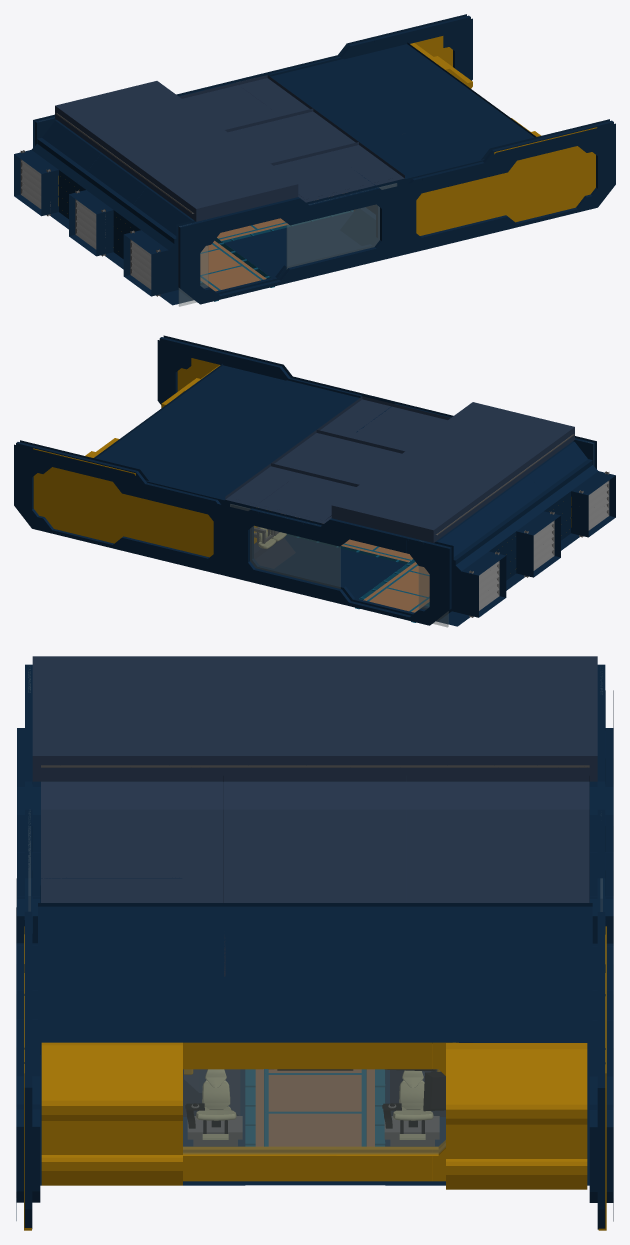
File: Ship.fbx
The picture shows the model from 3 angles, top to bottom: view 1: azimuth 30°, elevation 25°; view 2: azimuth 150°, elevation 25°; view 3: azimuth 270°, elevation 25°; orthographic projection. The views are drawn at different scales.
Parts seen in each view (by area): view 1: ship3:_End:polySurface6, ship3:_End:BSP_Ceiling01, ship3:_End:BB_Ceiling02, ship3:_End:BB_wall03, ship3:pCube22, ship3:BB_Doorglass_copy, ship3:_End:BB_Ceiling03, ship3:BSP_Floor01, ship3:polySurface6, ship3:_End:BB_Ceiling03_copy, ship3:_End:BB_Ceiling03_copy2, ship3:pCube23 (+8 smaller); view 2: ship3:polySurface6, ship3:_End:BSP_Ceiling01, ship3:_End:BB_Ceiling02, ship3:_End:BB_wall03, ship3:pCube24, ship3:_End:BB_Doorglass_copy, ship3:_End:BB_Ceiling03_copy2, ship3:_End:polySurface6, ship3:_End:BB_Ceiling03, ship3:_End:BB_Ceiling03_copy, ship3:_End:BSP_Floor01, ship3:pCube25 (+8 smaller); view 3: ship3:_End:BSP_Ceiling01, ship3:_End:BB_Ceiling02, ship3:_End:BB_Ceiling03, ship3:polySurface9, ship3:_End:BB_Ceiling03_copy2, ship3:_End:BB_Ceiling03_copy, ship3:_End:BB_Wall02_copy, ship3:_End:BB_Wall03_copy4, ship3:polySurface6, ship3:_End:polySurface6, ship3:BB_Floor01, ship3:polySurface12 (+9 smaller).
Part boxes in pixels (<box>): ship3:_End:polySurface6: <box>176,119,615,304</box>; ship3:_End:BSP_Ceiling01: <box>268,42,536,178</box>; ship3:_End:BB_Ceiling02: <box>55,81,298,221</box>; ship3:_End:BB_wall03: <box>14,120,193,300</box>; ship3:pCube22: <box>494,127,597,222</box>; ship3:BB_Doorglass_copy: <box>178,183,397,306</box>; ship3:_End:BB_Ceiling03: <box>270,142,404,202</box>; ship3:BSP_Floor01: <box>224,211,360,277</box>; ship3:polySurface6: <box>33,14,472,147</box>; ship3:_End:BB_Ceiling03_copy: <box>225,108,358,163</box>; ship3:_End:BB_Ceiling03_copy2: <box>179,75,312,129</box>; ship3:pCube23: <box>416,176,494,235</box>; ship3:polySurface6: <box>14,440,453,625</box>; ship3:_End:BSP_Ceiling01: <box>94,363,361,500</box>; ship3:_End:BB_Ceiling02: <box>331,402,574,542</box>; ship3:_End:BB_wall03: <box>436,441,615,621</box>; ship3:pCube24: <box>33,448,135,543</box>; ship3:_End:BB_Doorglass_copy: <box>230,504,448,627</box>; ship3:_End:BB_Ceiling03_copy2: <box>225,463,359,523</box>; ship3:_End:polySurface6: <box>157,335,596,468</box>; ship3:_End:BB_Ceiling03: <box>317,396,450,451</box>; ship3:_End:BB_Ceiling03_copy: <box>271,430,404,484</box>; ship3:_End:BSP_Floor01: <box>274,535,405,598</box>; ship3:pCube25: <box>132,496,213,557</box>; ship3:_End:BSP_Ceiling01: <box>38,903,592,1042</box>; ship3:_End:BB_Ceiling02: <box>32,656,597,781</box>; ship3:_End:BB_Ceiling03: <box>41,775,223,902</box>; ship3:polySurface9: <box>183,1069,445,1154</box>; ship3:_End:BB_Ceiling03_copy2: <box>406,776,589,902</box>; ship3:_End:BB_Ceiling03_copy: <box>224,777,406,902</box>; ship3:_End:BB_Wall02_copy: <box>446,1043,587,1189</box>; ship3:_End:BB_Wall03_copy4: <box>41,1042,182,1185</box>; ship3:polySurface6: <box>589,664,613,1229</box>; ship3:_End:polySurface6: <box>16,664,40,1228</box>; ship3:BB_Floor01: <box>245,1075,385,1146</box>; ship3:polySurface12: <box>299,1042,458,1181</box>.
Bounding box in the file's own units: 1954 × 404 × 1102.
